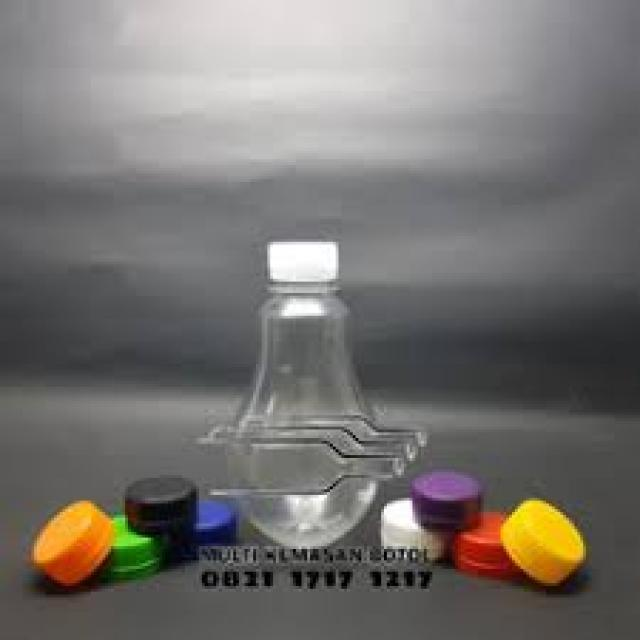good: (200, 210, 408, 580)
